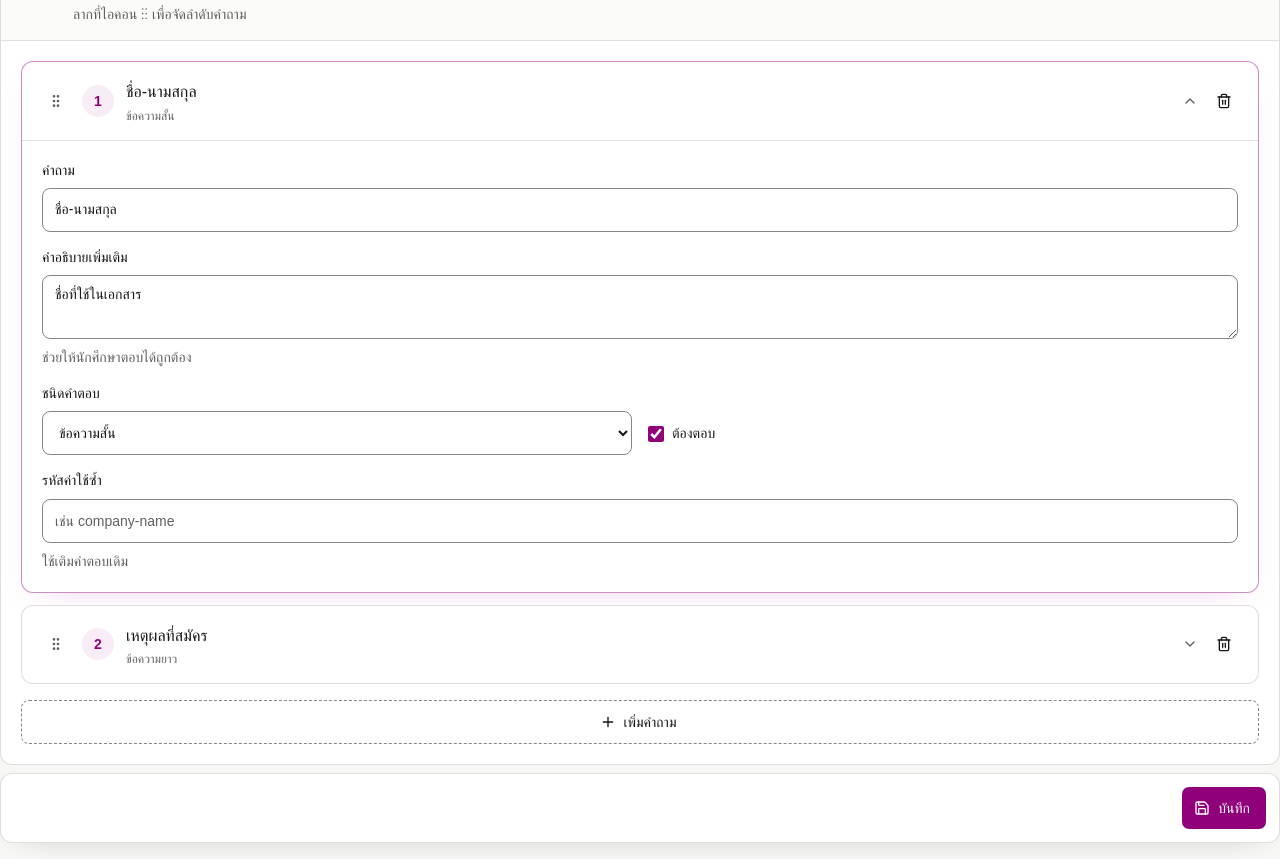
Test: FormBuilder draft editing › expands a newly added question and collapses all questions after save
This screenshot has width=1280, height=859.
(page scrolled)
Step 1. Click the button "เพิ่มคำถาม" → (640,722), box top-left (21, 700), bottom-right (1259, 744)
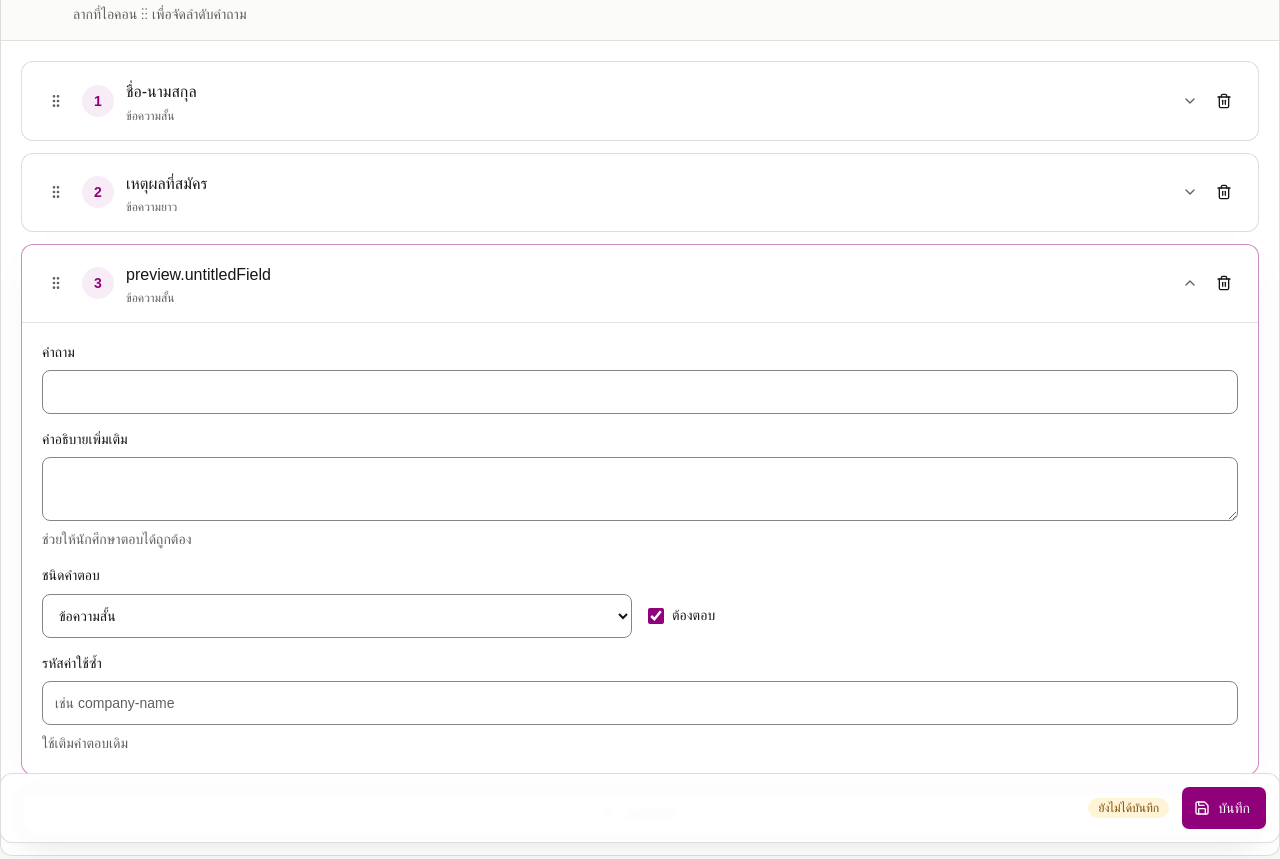
Result: the list item named "ยุบคำถาม 3" is shown at top-left (21, 244), bottom-right (1259, 775)
Step 2. Type "แผนการทำงาน" into the field labelled "คำถาม" → (640,392), box top-left (42, 370), bottom-right (1238, 414)
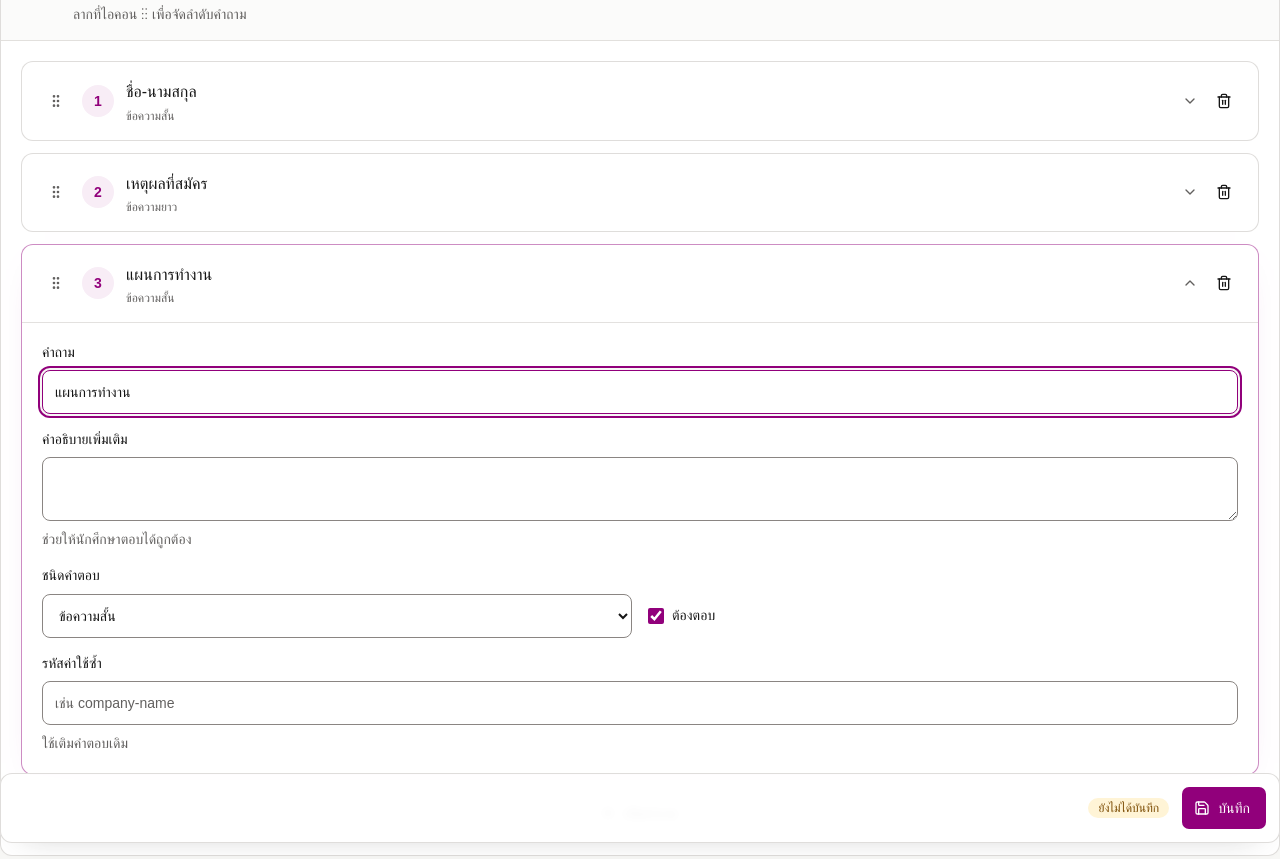
Step 3. Click the button "บันทึก" → (1224,808), box top-left (1181, 786), bottom-right (1267, 830)
(page scrolled)
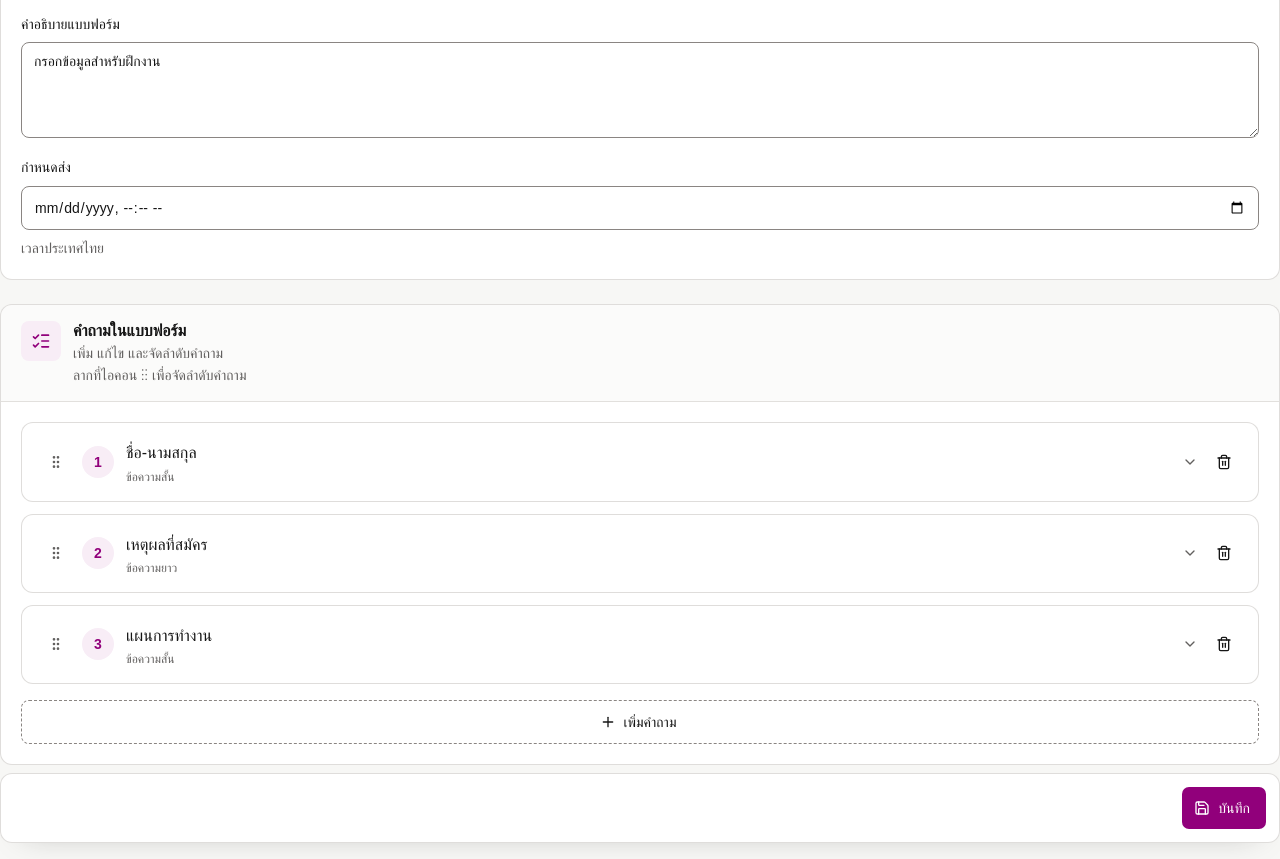
Result: the button named "ยุบคำถาม 3" is collapsed at top-left (82, 622), bottom-right (1198, 667)
